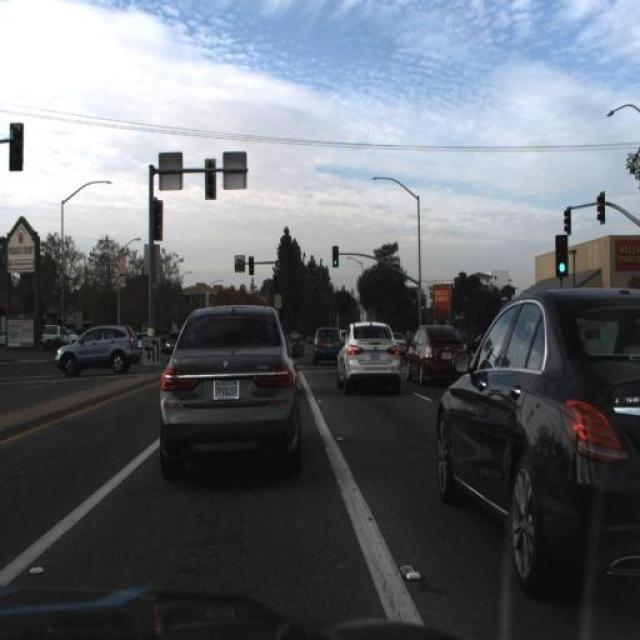car: (426, 278, 639, 612), (160, 306, 296, 486), (400, 314, 470, 394), (53, 323, 139, 377), (337, 318, 398, 389), (311, 321, 348, 368), (387, 317, 409, 358), (339, 322, 362, 356), (130, 330, 149, 356), (286, 321, 302, 341)
trafficLight-Green: (9, 121, 23, 171), (151, 200, 164, 246), (592, 188, 606, 228), (204, 160, 218, 199), (561, 207, 574, 235), (270, 272, 279, 298), (247, 254, 256, 278)
trafficLight-GreenLeft: (555, 233, 567, 274), (329, 242, 340, 270), (246, 258, 258, 280), (270, 276, 281, 296), (331, 248, 340, 268), (418, 294, 427, 314)
